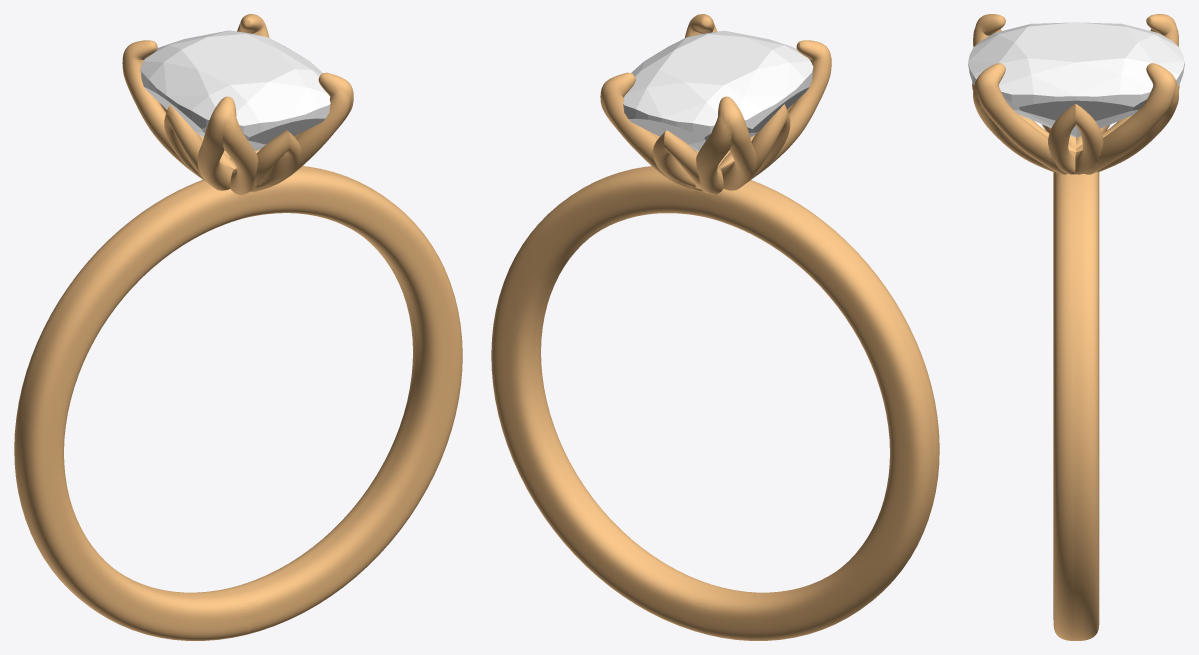
3 views of the same model, side by side, from view 1: azimuth 30°, elevation 25°; view 2: azimuth 150°, elevation 25°; view 3: azimuth 270°, elevation 25° (orthographic).
Parts seen in each view (by area): view 1: object 1, PART0001; view 2: object 1, PART0001; view 3: object 1, PART0001.
Part boxes in pixels (<box>): object 1: <box>14,14,462,640</box>; PART0001: <box>140,30,330,151</box>; object 1: <box>491,14,939,640</box>; PART0001: <box>623,30,813,151</box>; object 1: <box>972,14,1179,640</box>; PART0001: <box>968,22,1184,137</box>.
Bounding box in the file's own units: 2.41 × 3.02 × 1.03.
